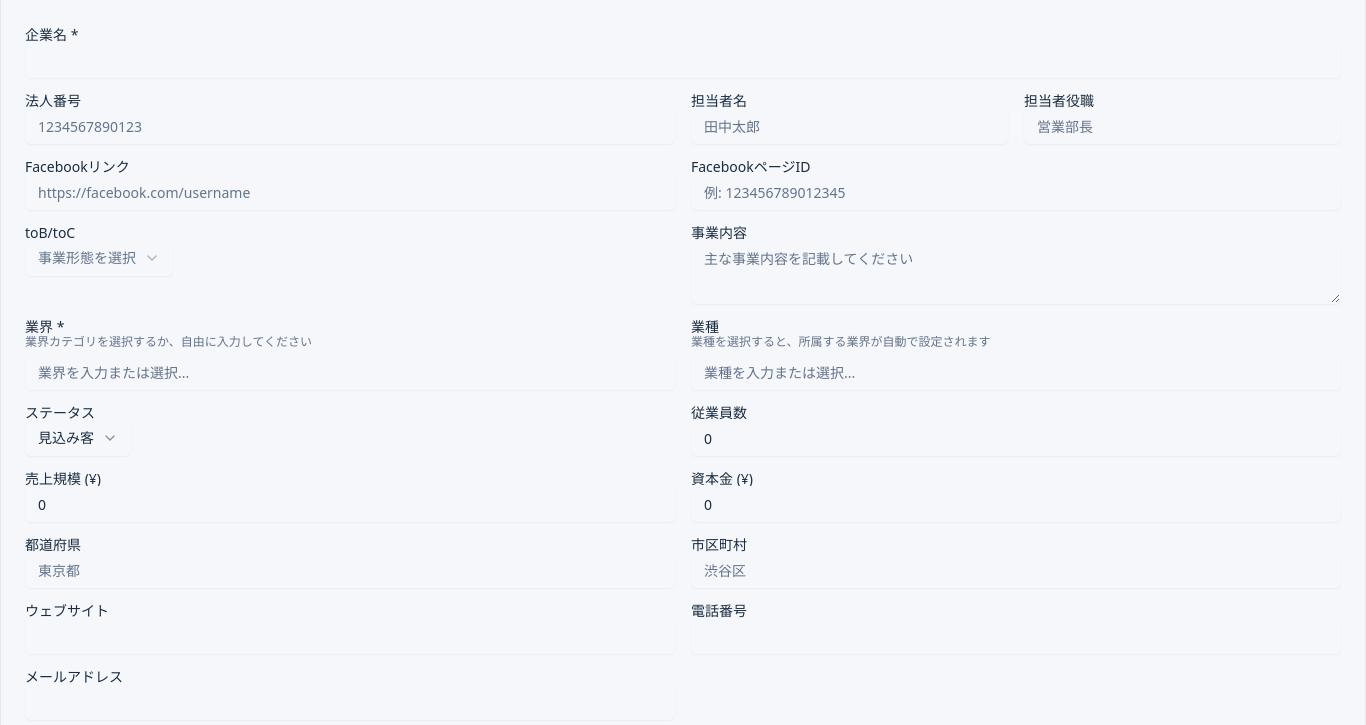
Scenario: CompanyForm › バリデーション › should validate email format
In the field labelled "企業名 *": (683, 60) [25,42,1341,78], type "テスト企業"
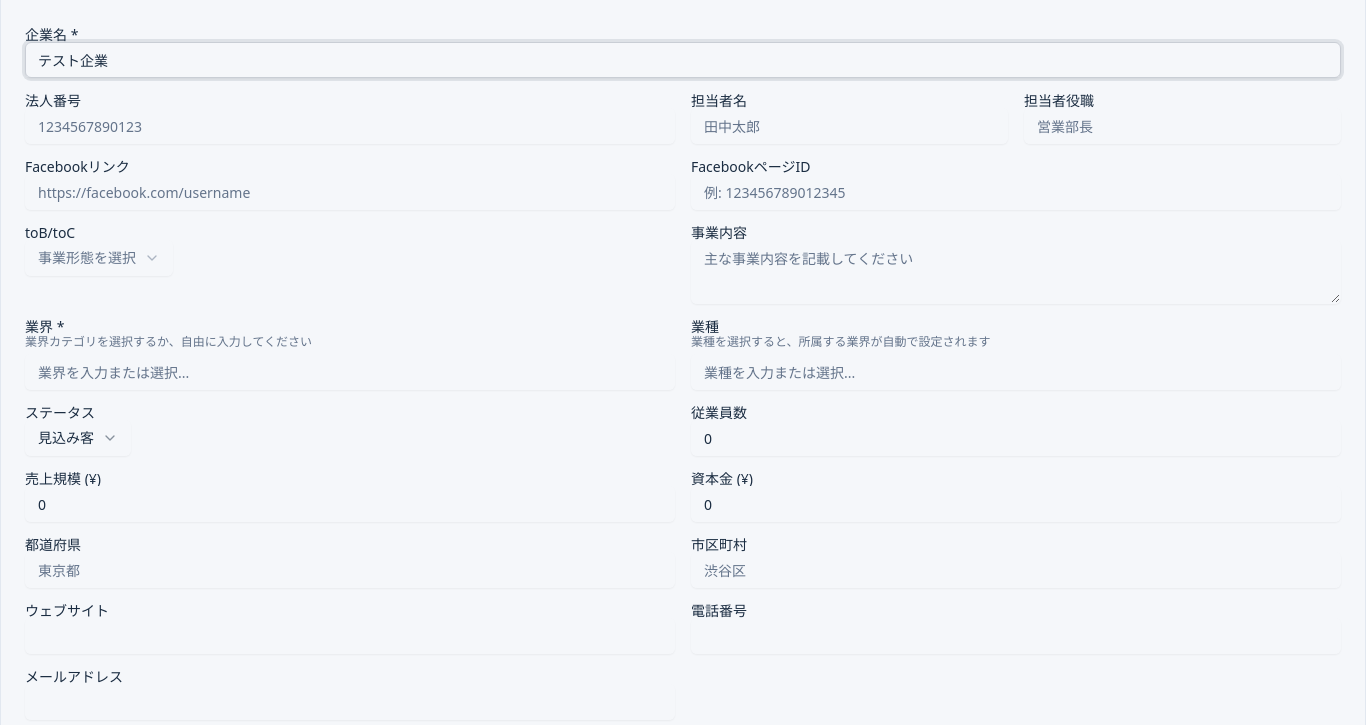
In the field labelled "業界 *": (350, 372) [25,354,675,390], type "IT"
(page scrolled)
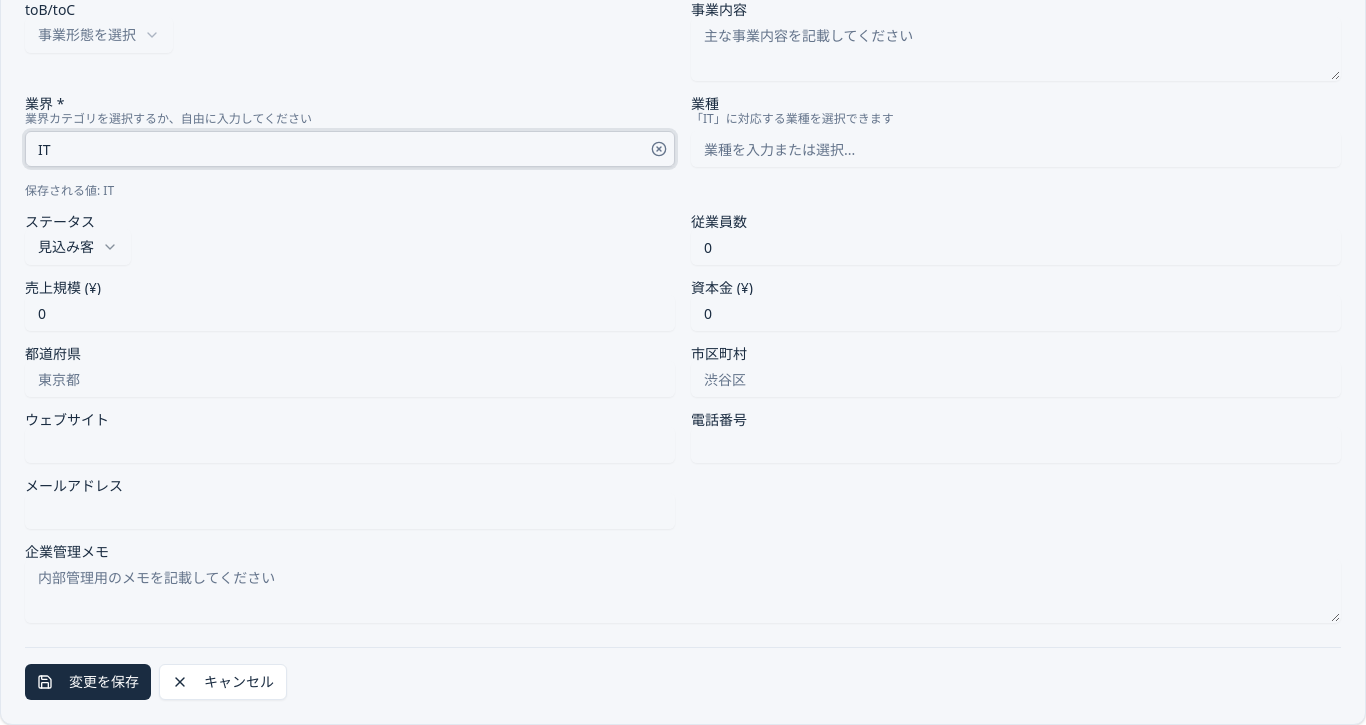
In the field labelled "メールアドレス": (350, 511) [25,493,675,529], type "invalid-email"
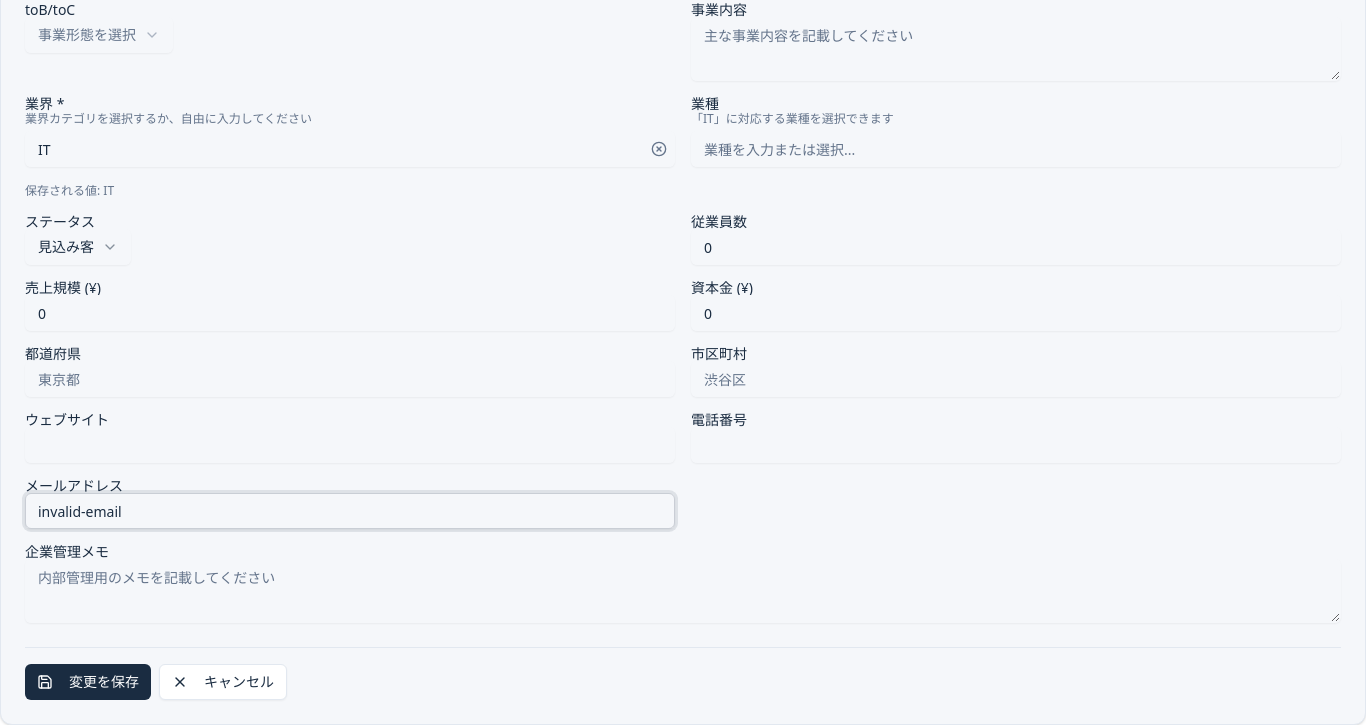
Click the button "変更を保存": (88, 682) [25,664,151,700]
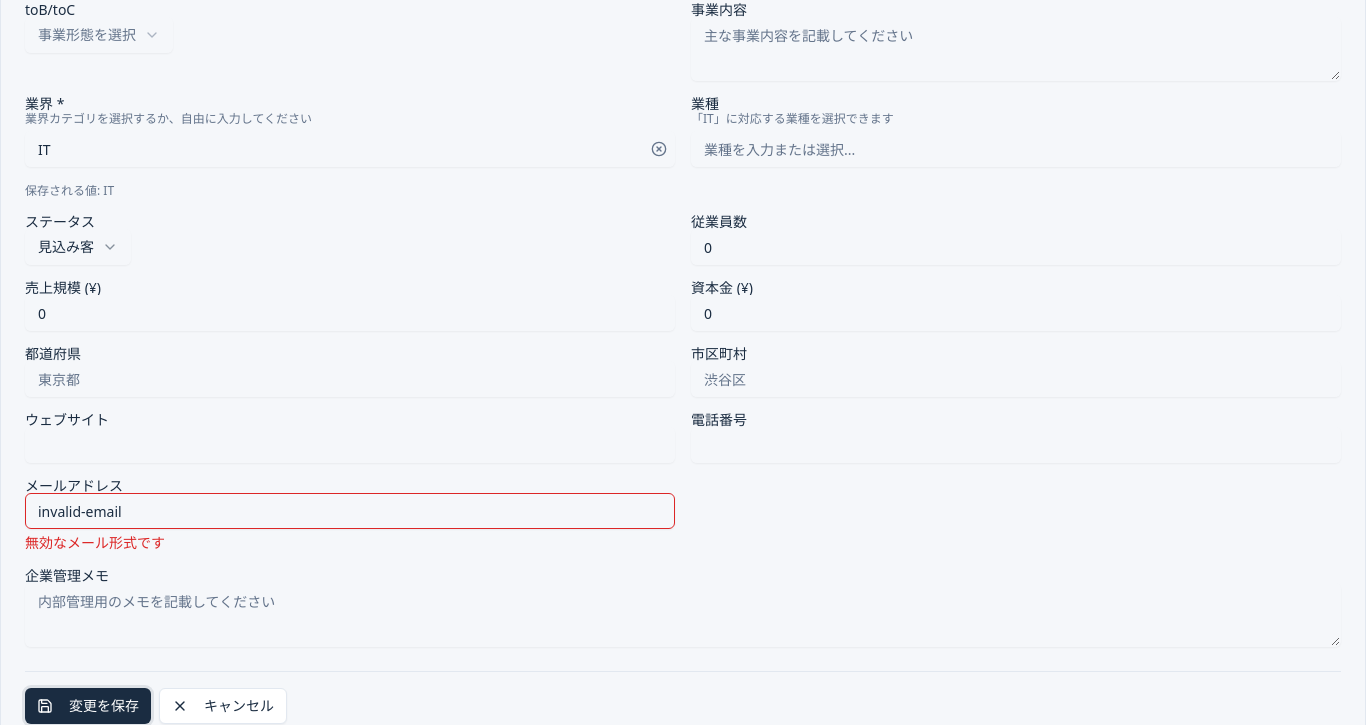
Now the text "無効なメール形式です" is shown, box [25,533,165,552]
